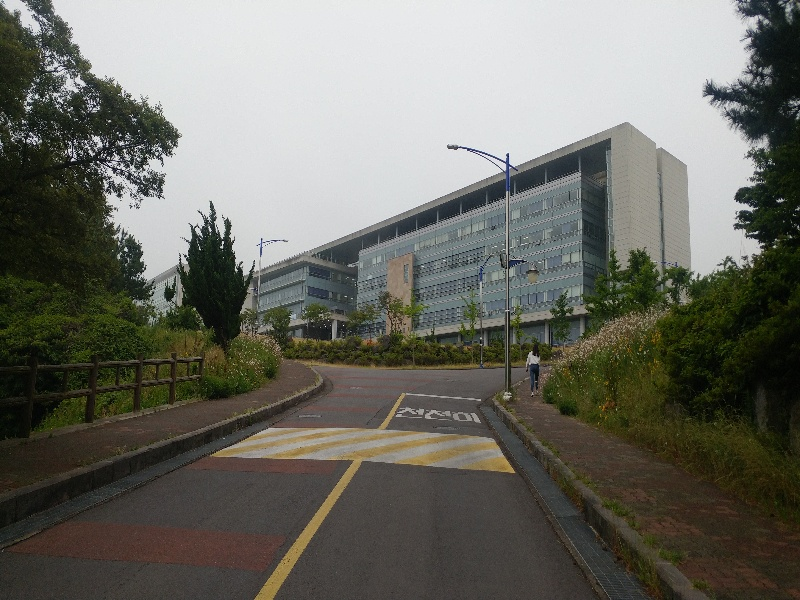Engineering College Building 4: (254, 141, 694, 332), (281, 167, 676, 301), (303, 192, 496, 293)
